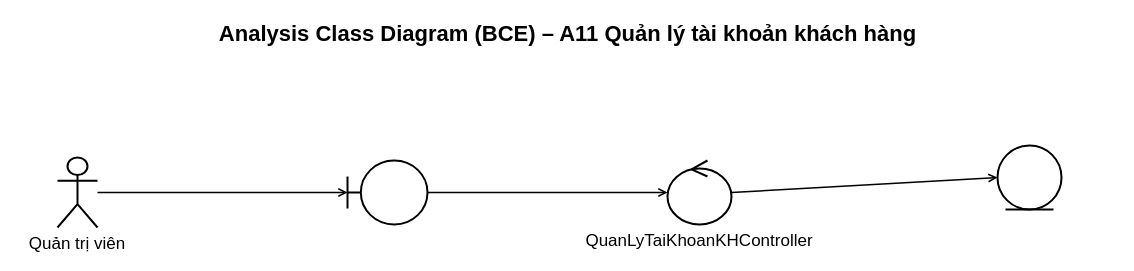
This 1134x271 diagram has some shape labels left out. Here are the shapes that lost their labels. From the top down, the centre of each, then its label:
At (387,192): "QuanLyTaiKhoanKHPage".
At (1029,177): "TaiKhoanApple".
